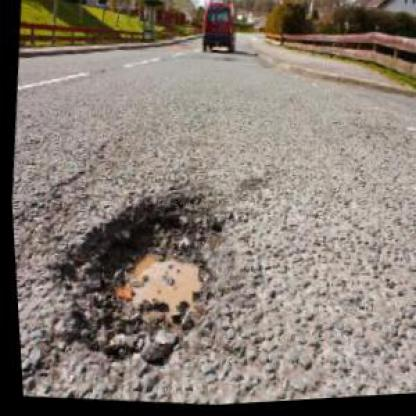pothole: (40, 178, 241, 386)
